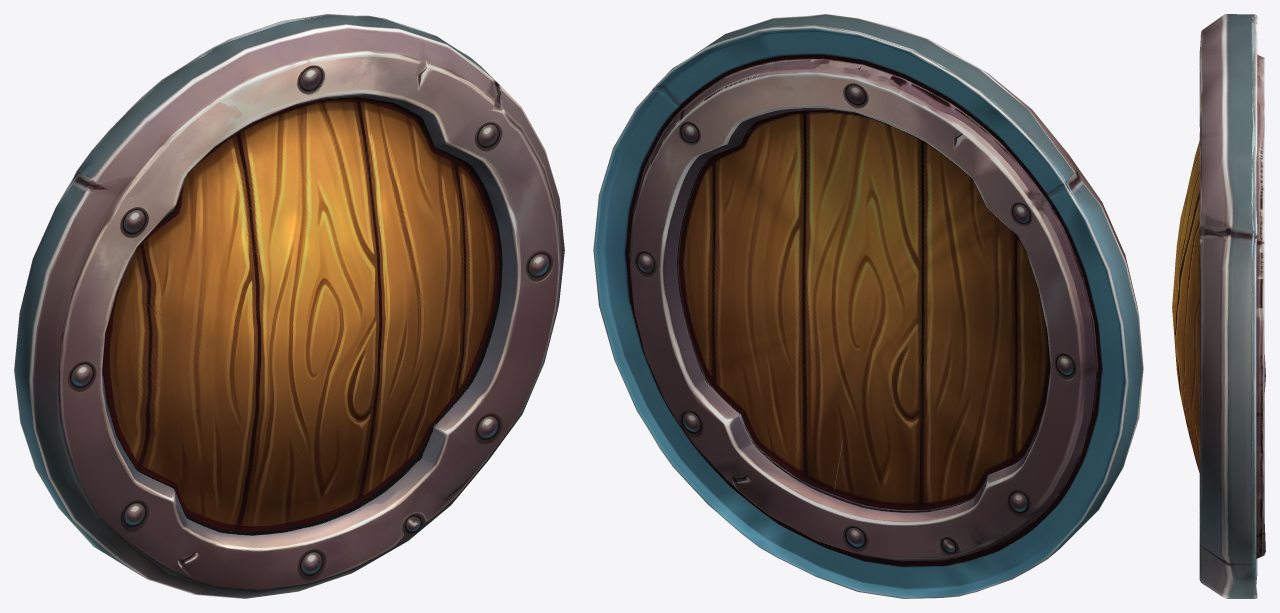
Rendered from shield_animation-ld.glb.
3 renders of one model, left to right at view 1: azimuth 30°, elevation 25°; view 2: azimuth 150°, elevation 25°; view 3: azimuth 270°, elevation 25°, orthographic. The views are drawn at different scales.
Bounding box in the file's own units: 1.91 × 1.9 × 0.3053.
Materials: 1 (1 with a texture image).
